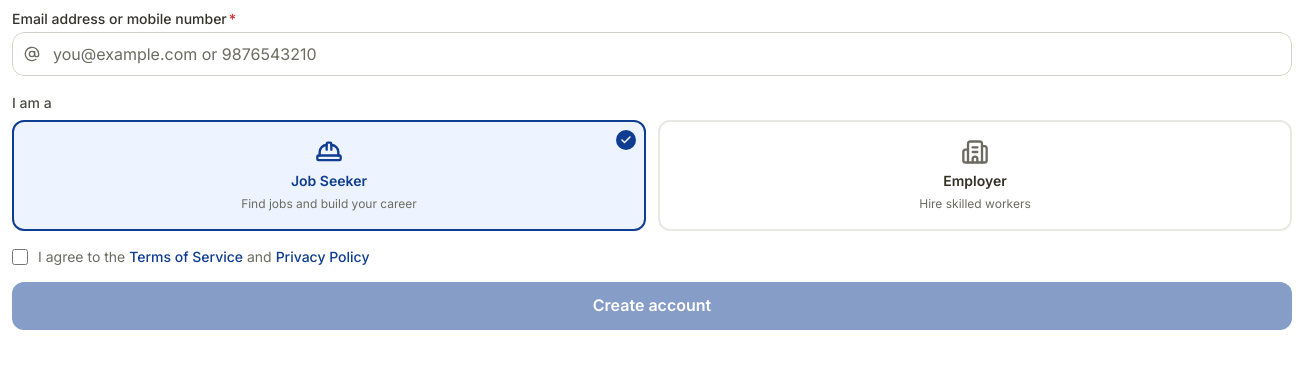
Test: SignupForm — phone signup › says so when the number cannot receive WhatsApp, instead of advancing
Type "9999999999" into the field labelled "Email address or mobile number*" at (652, 54), box [12,32,1292,76]
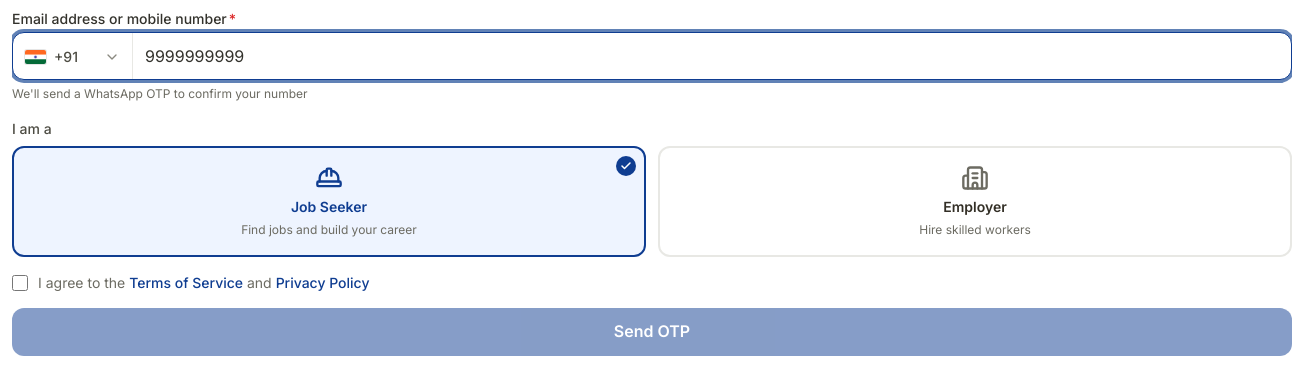
Click the checkbox at (20, 282), box [12,274,28,290]
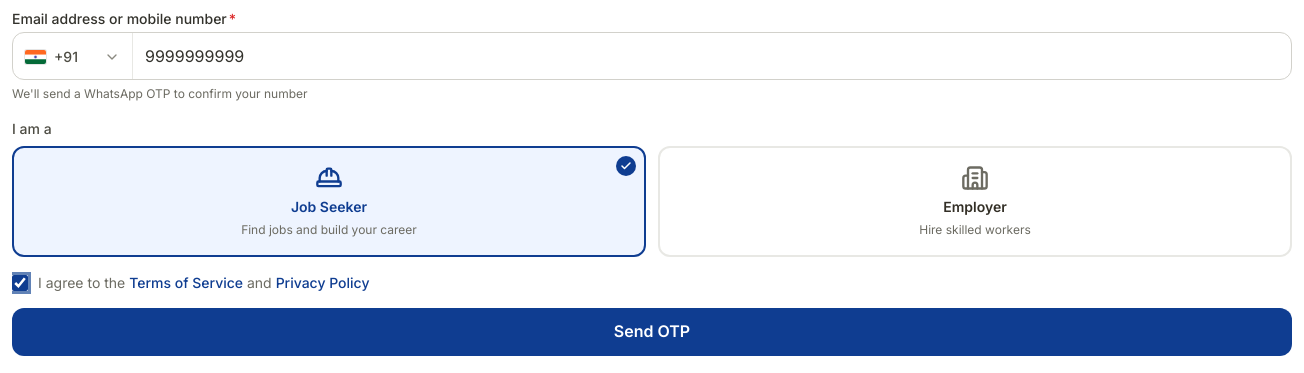
Click the button "Send OTP" at (652, 332), box [12,308,1292,356]
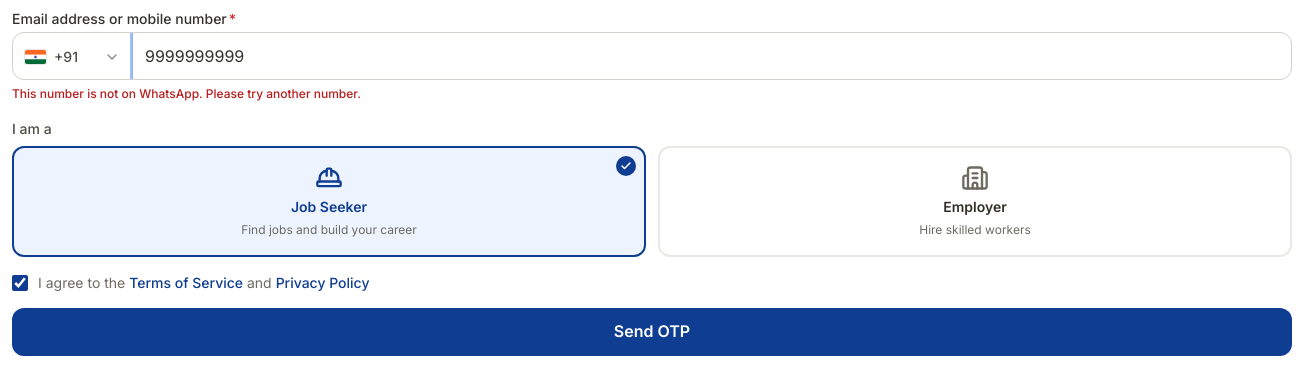
Now the button "Send OTP" is shown, box [12,308,1292,356]
Now the message shows "not on WhatsApp", box [12,86,361,101]
